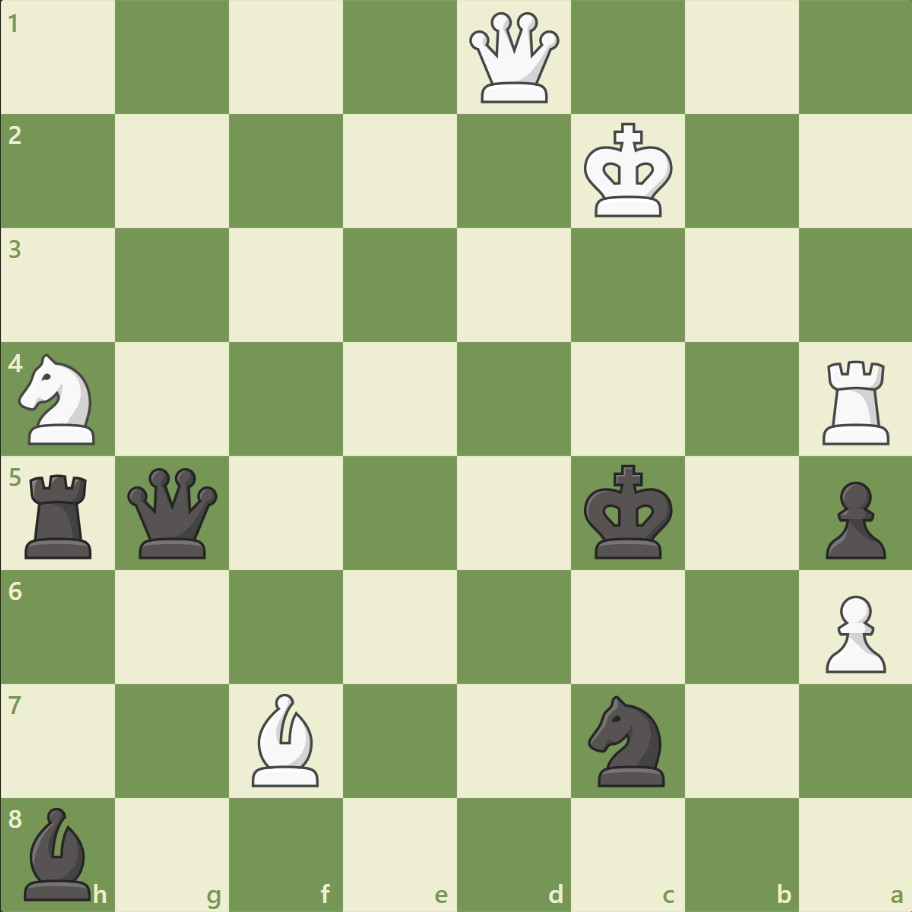B: (251, 693, 330, 796)
K: (582, 126, 680, 228)
N: (19, 354, 108, 455)
P: (823, 589, 895, 674)
Q: (468, 13, 569, 114)
R: (819, 354, 897, 454)
b: (24, 806, 103, 910)
k: (582, 467, 680, 568)
n: (587, 694, 676, 795)
p: (823, 476, 895, 560)
q: (127, 467, 228, 568)
r: (24, 467, 103, 567)
